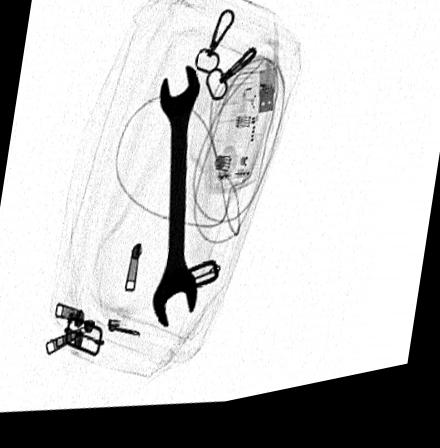Wrench: (154, 71, 200, 334)
